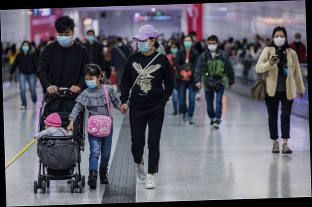with_mask: (55, 31, 73, 47), (136, 39, 151, 54), (84, 76, 98, 90), (273, 33, 287, 47), (206, 41, 219, 52), (182, 38, 193, 49), (170, 45, 179, 55), (86, 32, 95, 42), (21, 43, 30, 51), (101, 39, 108, 47), (117, 40, 124, 47), (295, 37, 302, 43)
